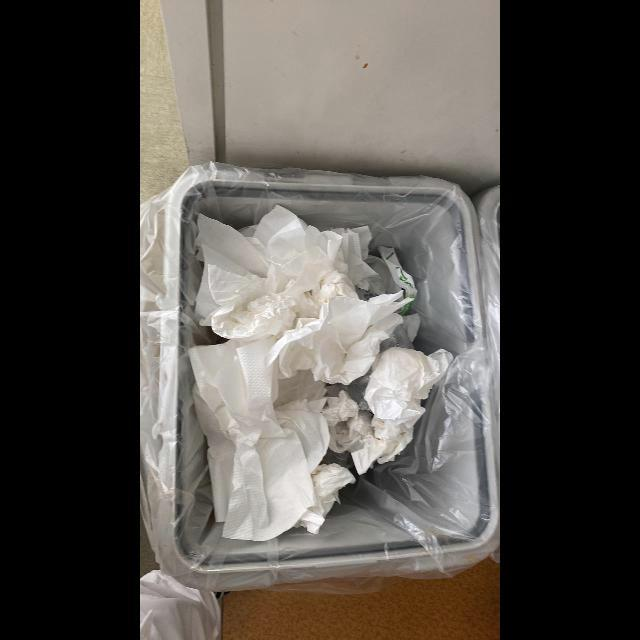paper: (188, 336, 325, 545), (195, 205, 378, 340), (265, 290, 414, 386), (351, 347, 454, 475), (311, 463, 357, 518)
